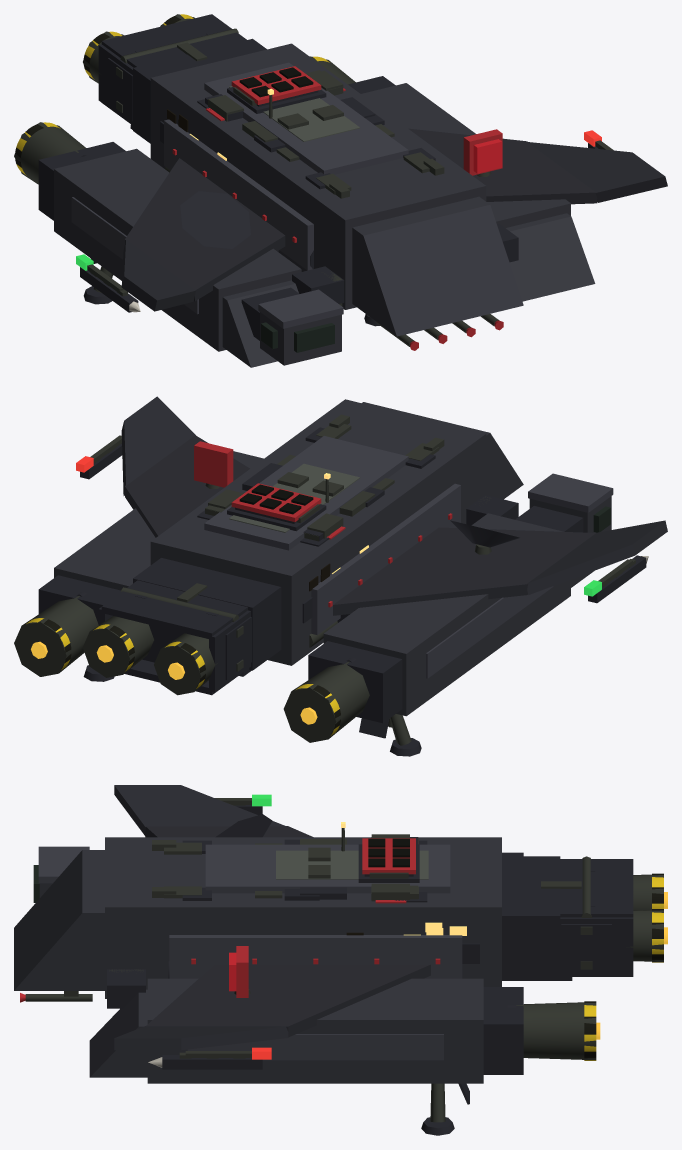
The model's file is enf._heavy-l.glb.
3 renders of one model, top to bottom at view 1: azimuth 30°, elevation 25°; view 2: azimuth 150°, elevation 25°; view 3: azimuth 270°, elevation 25°, orthographic. The views are drawn at different scales.
Visible parts, largest first — view 1: hullMain, hullForebody, outriggerLeft, wingInnerLeft, armourDorsal, wingInnerRight, armourFlankL, outriggerNoseRight, outriggerRight, wingOuterRight, cShroudT, radarDish (+20 smaller); view 2: hullMain, engineHousing (×4), outriggerLeft, wingInnerLeft, armourDorsal, armourFlankL, centralEngineBay, outriggerRight, wingInnerRight, cShroudT, engineBayLeft, wingOuterLeft (+17 smaller); view 3: hullMain, outriggerRight, wingInnerRight, hullForebody, armourFlankR, centralEngineBay, armourDorsal, engineHousing (×3), armourPodRight, wingOuterLeft, cShroudT, engineBayRight (+17 smaller).
Part boxes in pixels (bbox=[...]): hullMain: bbox=[150, 43, 486, 309]; hullForebody: bbox=[352, 196, 523, 336]; outriggerLeft: bbox=[54, 148, 301, 351]; wingInnerLeft: bbox=[125, 158, 285, 301]; armourDorsal: bbox=[204, 62, 408, 174]; wingInnerRight: bbox=[408, 128, 597, 204]; armourFlankL: bbox=[164, 119, 313, 270]; outriggerNoseRight: bbox=[506, 213, 595, 301]; outriggerRight: bbox=[361, 83, 570, 227]; wingOuterRight: bbox=[527, 142, 667, 202]; cShroudT: bbox=[101, 14, 246, 67]; radarDish: bbox=[180, 191, 250, 248]; hullMain: bbox=[150, 399, 486, 665]; engineHousing (×4): bbox=[14, 595, 369, 742]; outriggerLeft: bbox=[323, 513, 570, 716]; wingInnerLeft: bbox=[333, 527, 595, 615]; armourDorsal: bbox=[204, 436, 408, 550]; armourFlankL: bbox=[311, 483, 460, 635]; centralEngineBay: bbox=[133, 558, 281, 670]; outriggerRight: bbox=[54, 451, 263, 590]; wingInnerRight: bbox=[125, 435, 249, 537]; cShroudT: bbox=[101, 580, 247, 639]; engineBayLeft: bbox=[308, 641, 402, 723]; wingOuterLeft: bbox=[527, 520, 667, 594]; hullMain: bbox=[105, 837, 501, 998]; outriggerRight: bbox=[147, 978, 483, 1083]; wingInnerRight: bbox=[146, 964, 430, 1037]; hullForebody: bbox=[14, 850, 104, 990]; armourFlankR: bbox=[169, 935, 462, 978]; centralEngineBay: bbox=[502, 856, 560, 979]; armourDorsal: bbox=[205, 844, 450, 893]; engineHousing (×3): bbox=[516, 874, 663, 1060]; armourPodRight: bbox=[187, 1034, 443, 1060]; wingOuterLeft: bbox=[114, 785, 285, 835]; cShroudT: bbox=[560, 859, 633, 917]; engineBayRight: bbox=[483, 987, 523, 1074].
Bounding box in the file's own units: 4.99 × 1.94 × 5.35.
